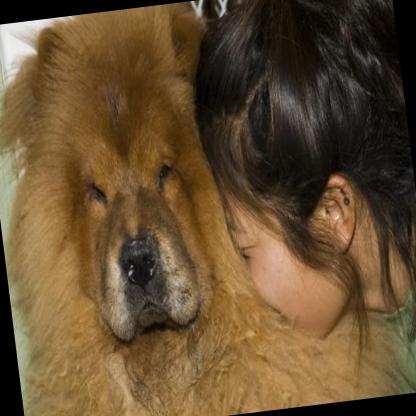chow: (0, 0, 412, 416)
